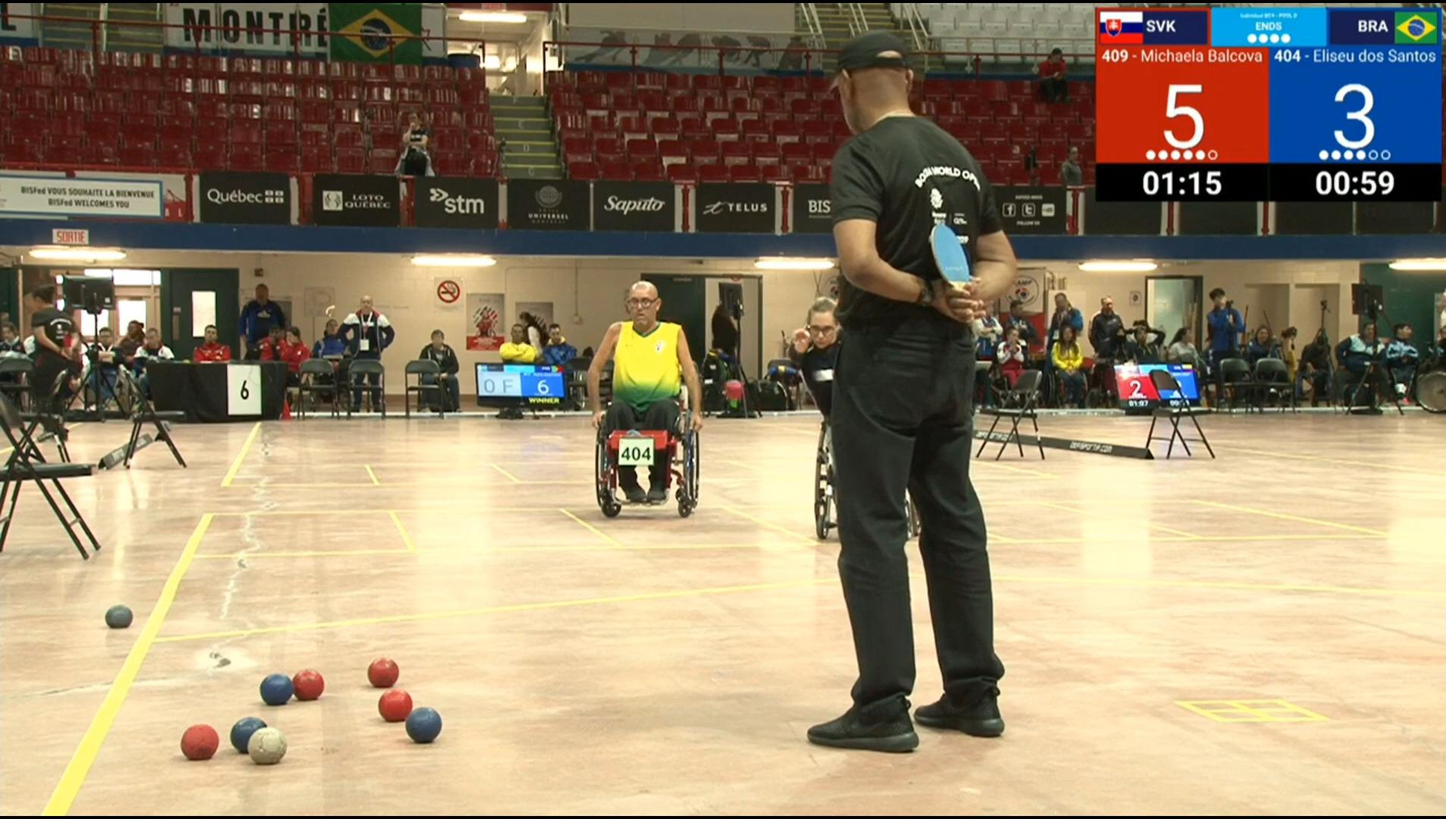blue_ball: (406, 708, 442, 742), (260, 673, 294, 706), (229, 718, 264, 749)
red_ball: (181, 723, 219, 760), (378, 689, 413, 721), (368, 658, 399, 689), (293, 670, 323, 701)
white_ball: (248, 729, 285, 764)
